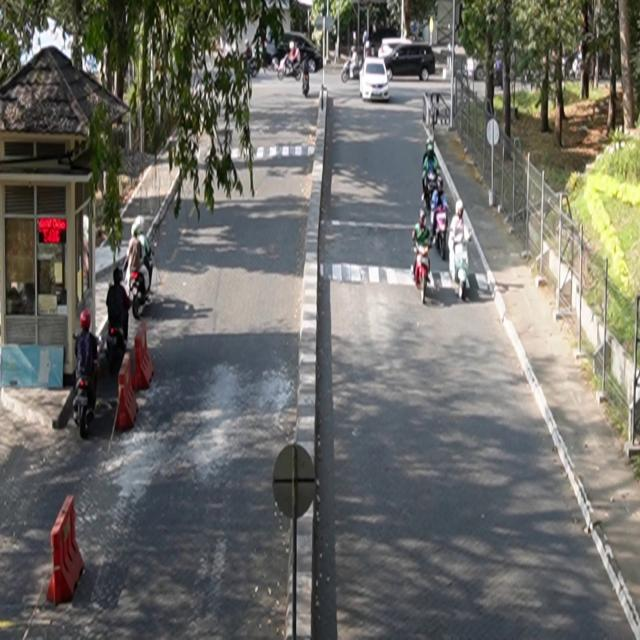car: (360, 58, 391, 103)
